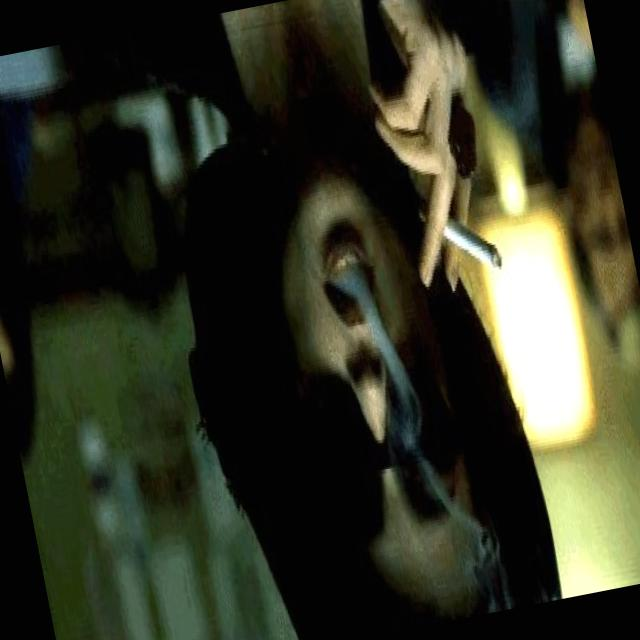cigarette: (418, 188, 508, 290)
